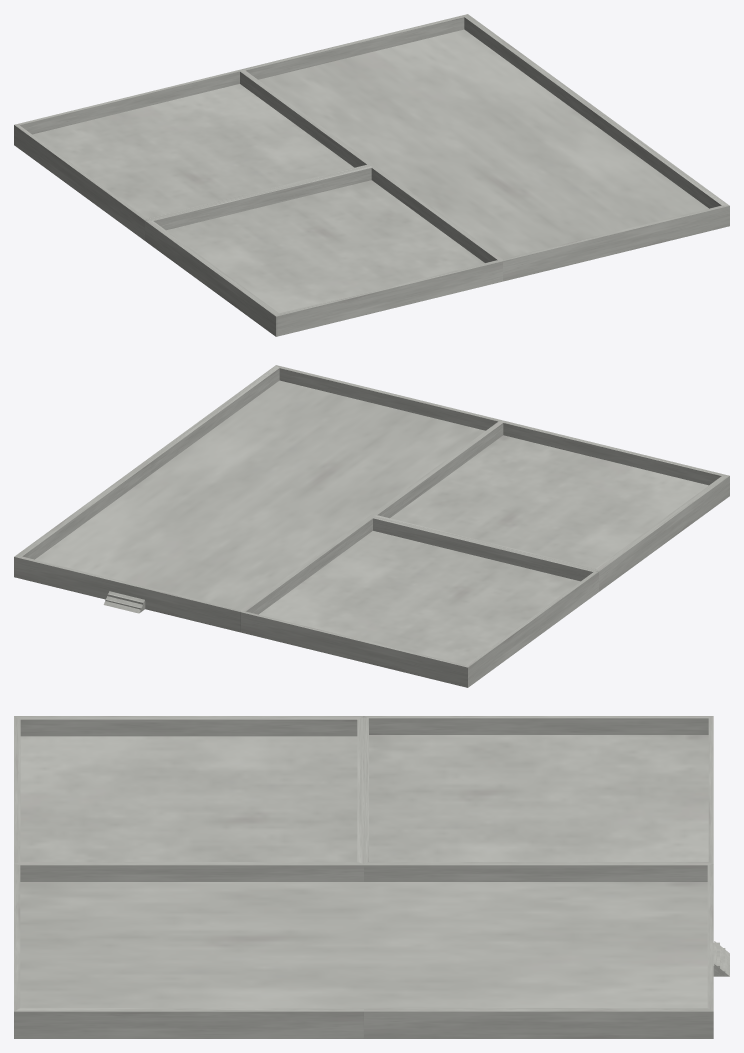
Rendered from ev temeli.fbx.
The picture shows the model from 3 angles, top to bottom: view 1: azimuth 30°, elevation 25°; view 2: azimuth 150°, elevation 25°; view 3: azimuth 270°, elevation 25°; orthographic projection. The views are drawn at different scales.
Parts seen in each view (by area): view 1: Plane; view 2: Plane; view 3: Plane.
Boxes of the visible parts, bbox=[...] form: Plane: bbox=[14, 14, 729, 336]; Plane: bbox=[14, 365, 729, 687]; Plane: bbox=[14, 716, 713, 1038].
Size of the model in its own units: 1200 by 51.44 by 1228.
Materials: 1 (1 with a texture image).
